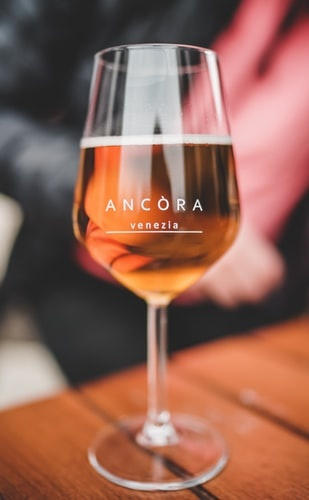whiskey: (82, 42, 235, 473)
